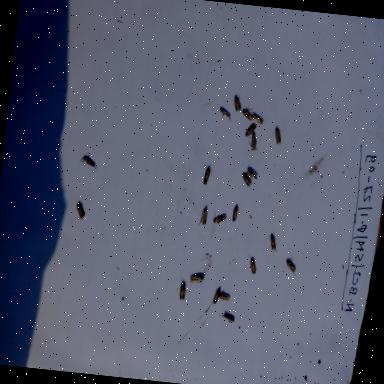pbw: (188, 266, 208, 289), (176, 276, 190, 302), (264, 232, 280, 254), (81, 152, 98, 172), (74, 200, 88, 222), (246, 253, 260, 275), (247, 130, 260, 152), (218, 310, 237, 325), (244, 121, 258, 141), (232, 92, 244, 114), (198, 206, 210, 228), (272, 124, 284, 146), (209, 285, 222, 305), (284, 257, 298, 275), (218, 106, 233, 122), (240, 172, 254, 188), (244, 166, 260, 180), (212, 212, 228, 225), (241, 106, 254, 122), (231, 204, 241, 224), (250, 111, 264, 125), (219, 288, 232, 302)
